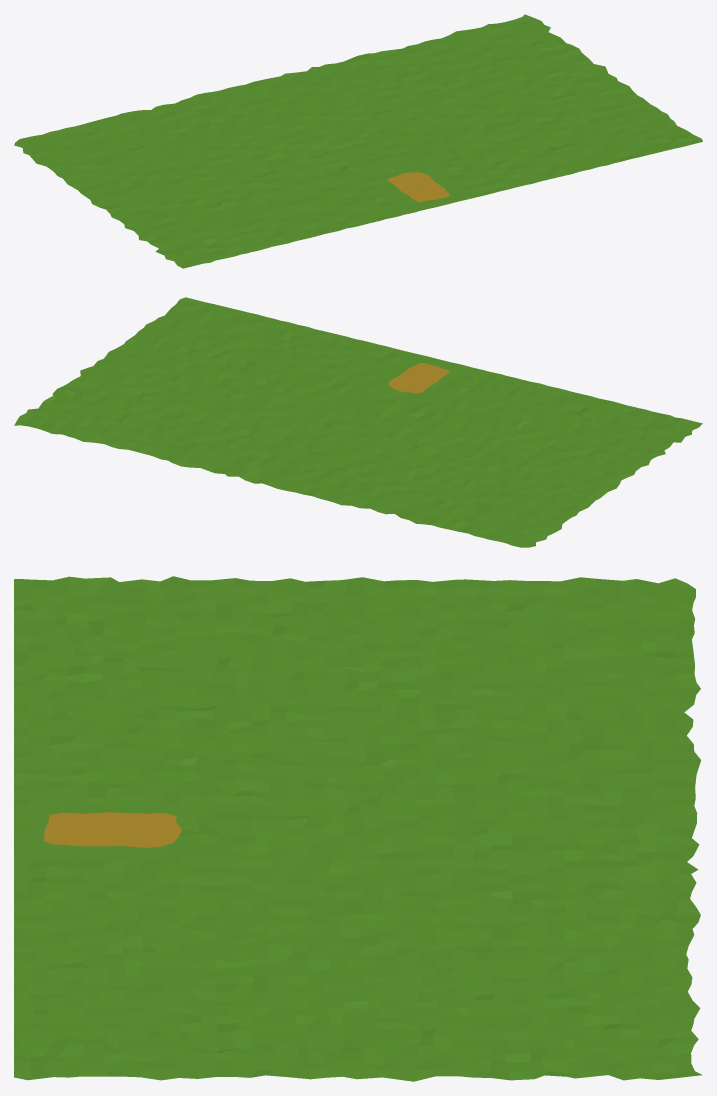
The model's file is jungle_Level_Floor.fbx.
3 renders of one model, top to bottom at view 1: azimuth 30°, elevation 25°; view 2: azimuth 150°, elevation 25°; view 3: azimuth 270°, elevation 25°, orthographic. The views are drawn at different scales.
Visible parts, largest first — view 1: jungle_Level_Floor; view 2: jungle_Level_Floor; view 3: jungle_Level_Floor.
Boxes of the visible parts, left/top/right/bottom form: jungle_Level_Floor: left=14, top=14, right=702, bottom=268; jungle_Level_Floor: left=14, top=297, right=702, bottom=547; jungle_Level_Floor: left=14, top=576, right=702, bottom=1081.
Size of the model in its own units: 5765 by 16.04 by 3320.
